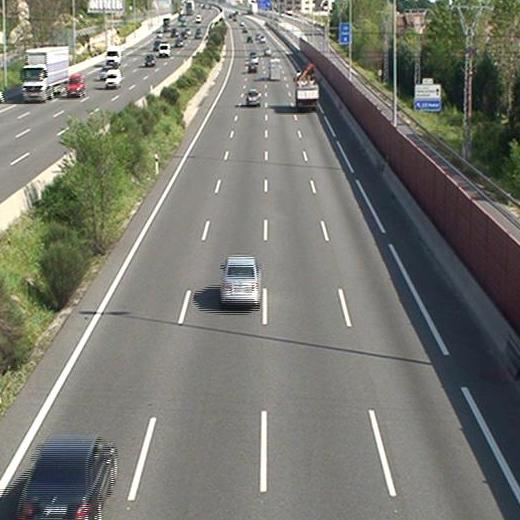car: (16, 436, 116, 520), (221, 256, 260, 304), (247, 90, 261, 107), (247, 63, 258, 74), (250, 56, 259, 64)
small-truck: (295, 73, 320, 111), (269, 57, 282, 80)
